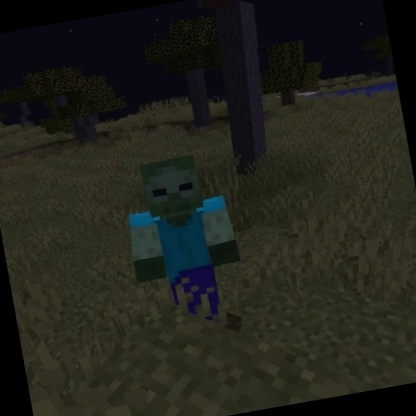zombie: (114, 145, 255, 339)
